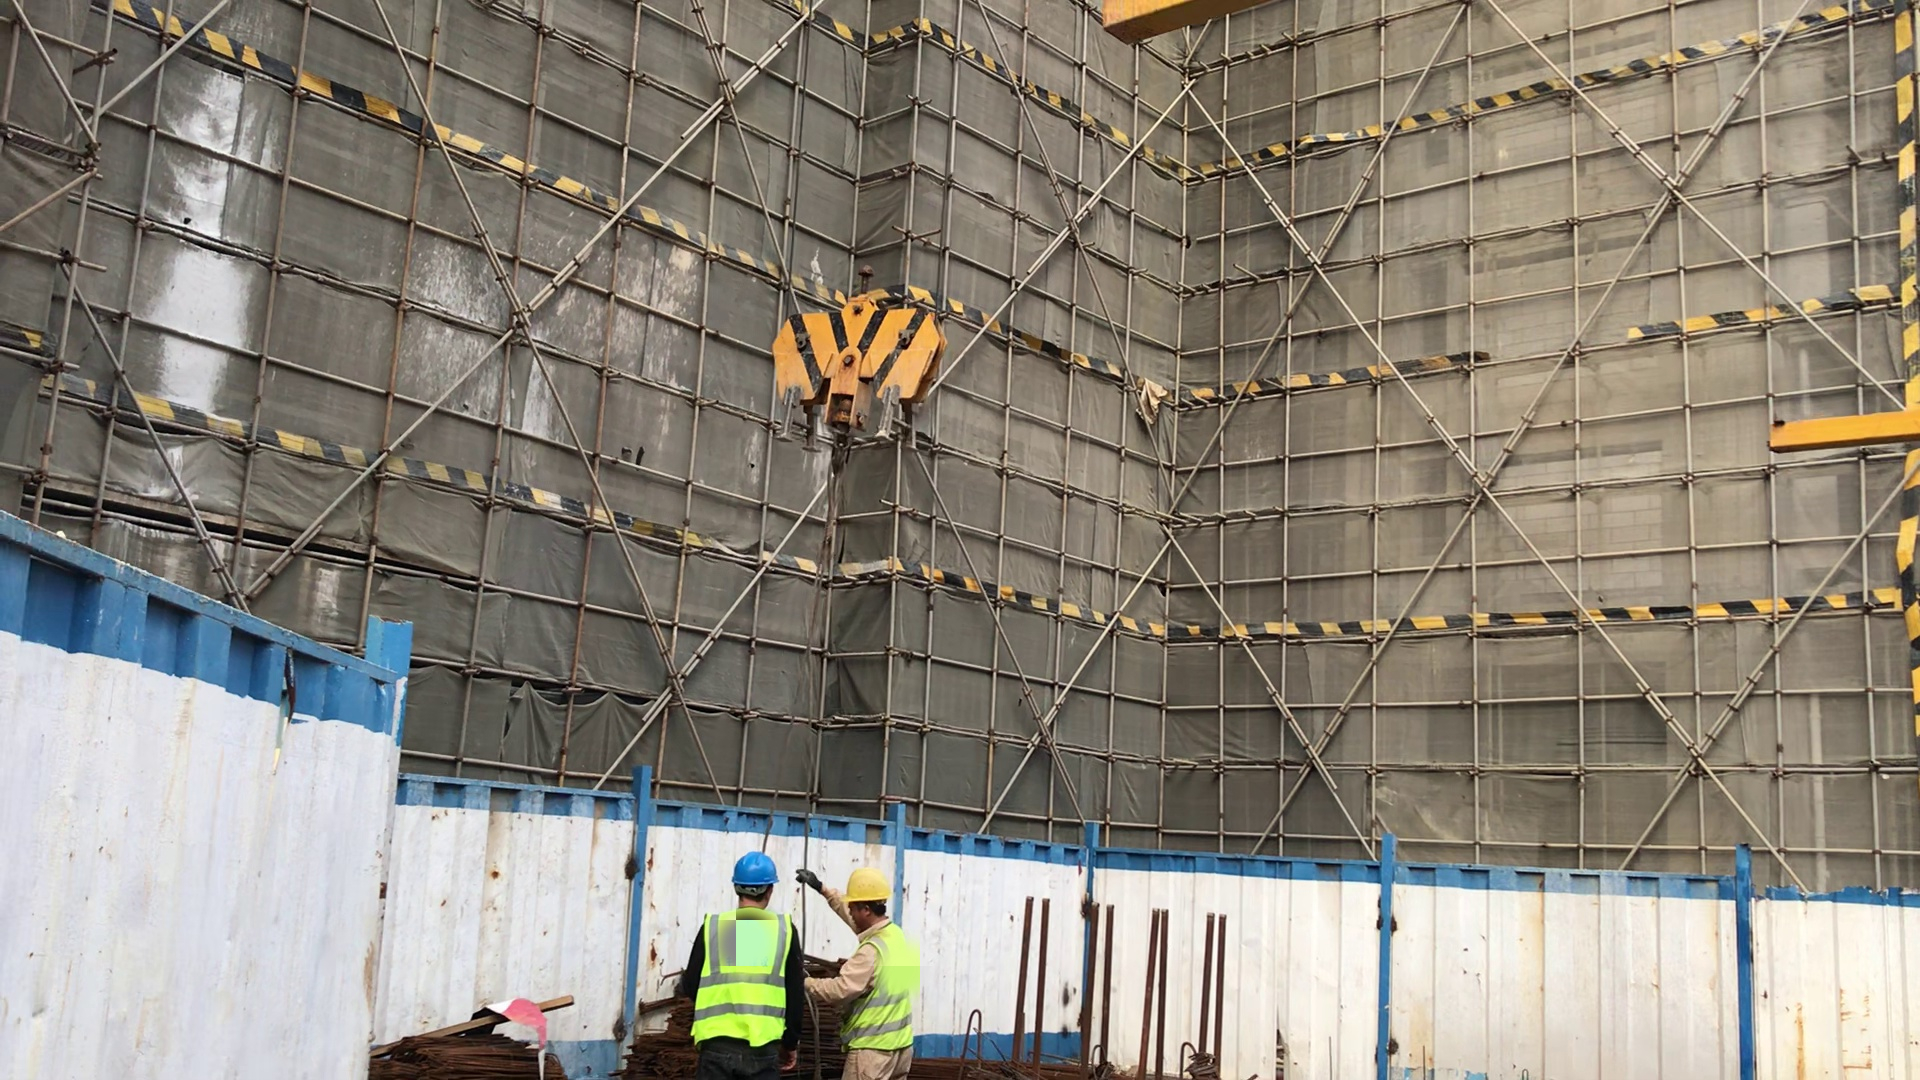helmet: (725, 841, 778, 893), (844, 859, 891, 913)
hook: (756, 274, 945, 459)
person: (681, 849, 802, 1080), (810, 855, 919, 1080)
vest: (692, 900, 788, 1050), (838, 931, 915, 1044)
